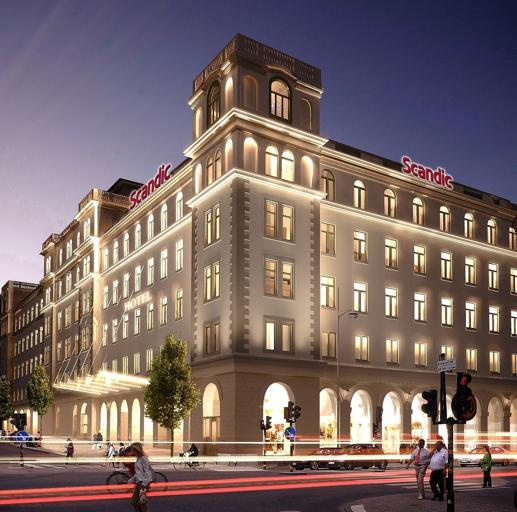non-vehicle: (104, 467, 167, 494), (172, 453, 204, 471)
